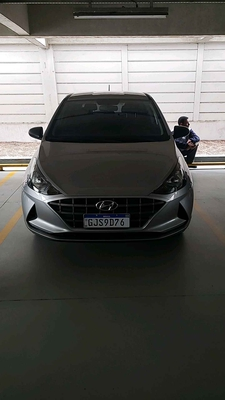Frontal Veiculo: (21, 94, 195, 244)
